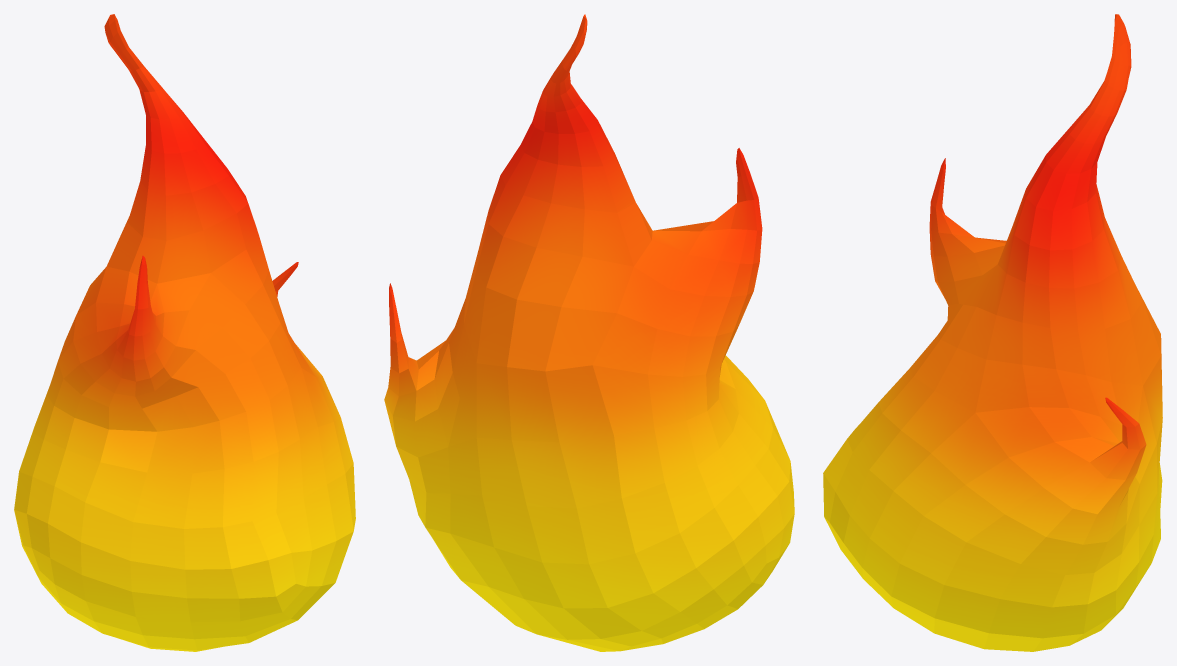
The model's file is asset2.gltf.
3 renders of one model, left to right at view 1: azimuth 30°, elevation 25°; view 2: azimuth 150°, elevation 25°; view 3: azimuth 270°, elevation 25°, orthographic. The views are drawn at different scales.
Parts seen in each view (by area): view 1: fire3:Group20972; view 2: fire3:Group20972; view 3: fire3:Group20972.
Part boxes in pixels (x1=…): fire3:Group20972: x1=14, y1=14, x2=355, y2=651; fire3:Group20972: x1=384, y1=14, x2=794, y2=651; fire3:Group20972: x1=823, y1=14, x2=1162, y2=651.
Bounding box in the file's own units: 0.2994 × 0.5446 × 0.2772.
Materials: 1 (1 with a texture image).
